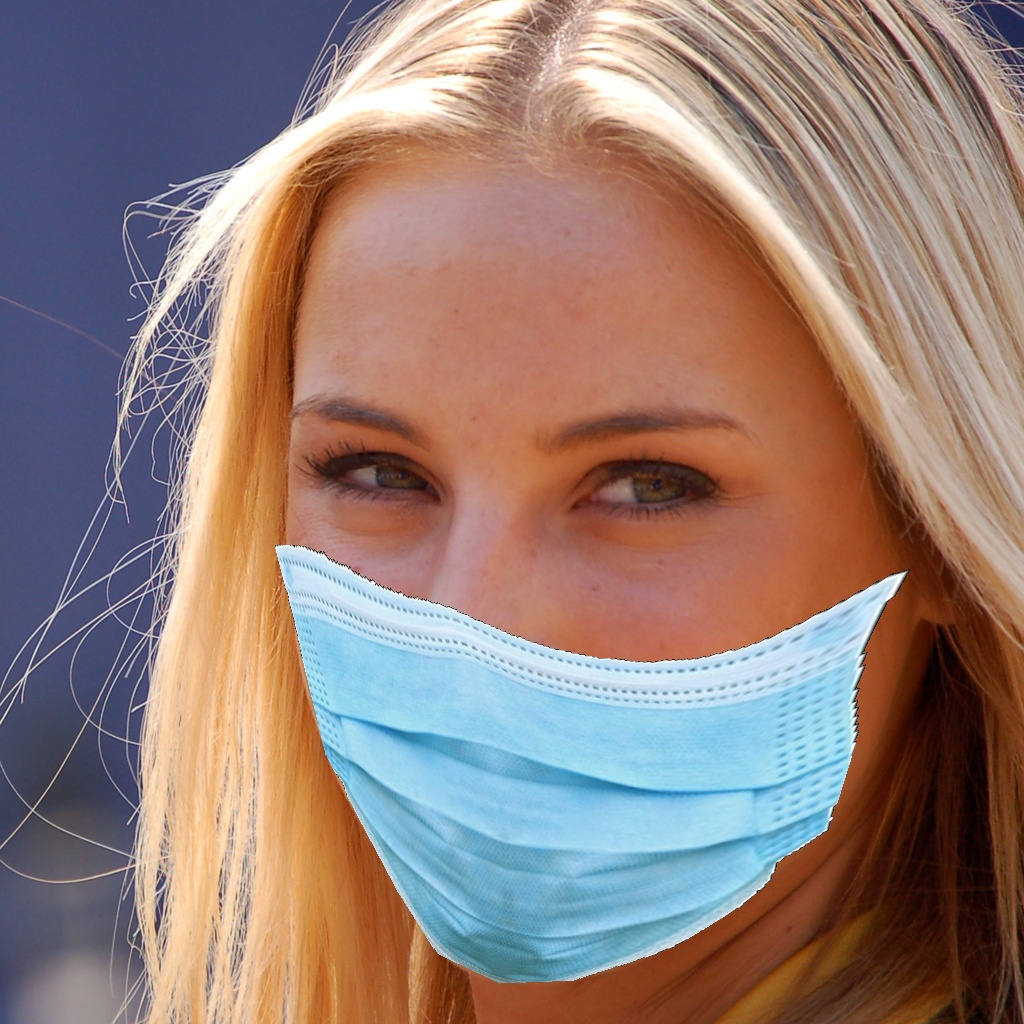Mask: (269, 342, 902, 986)
